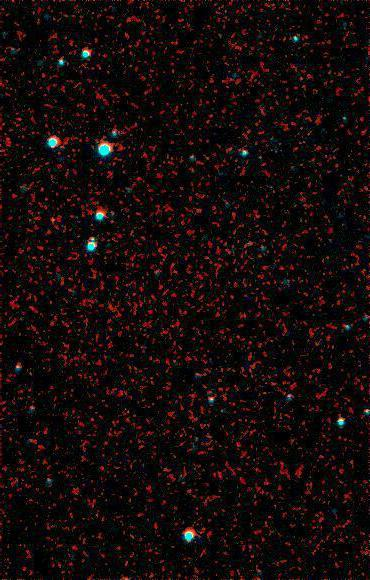star: (41, 208, 71, 238)
